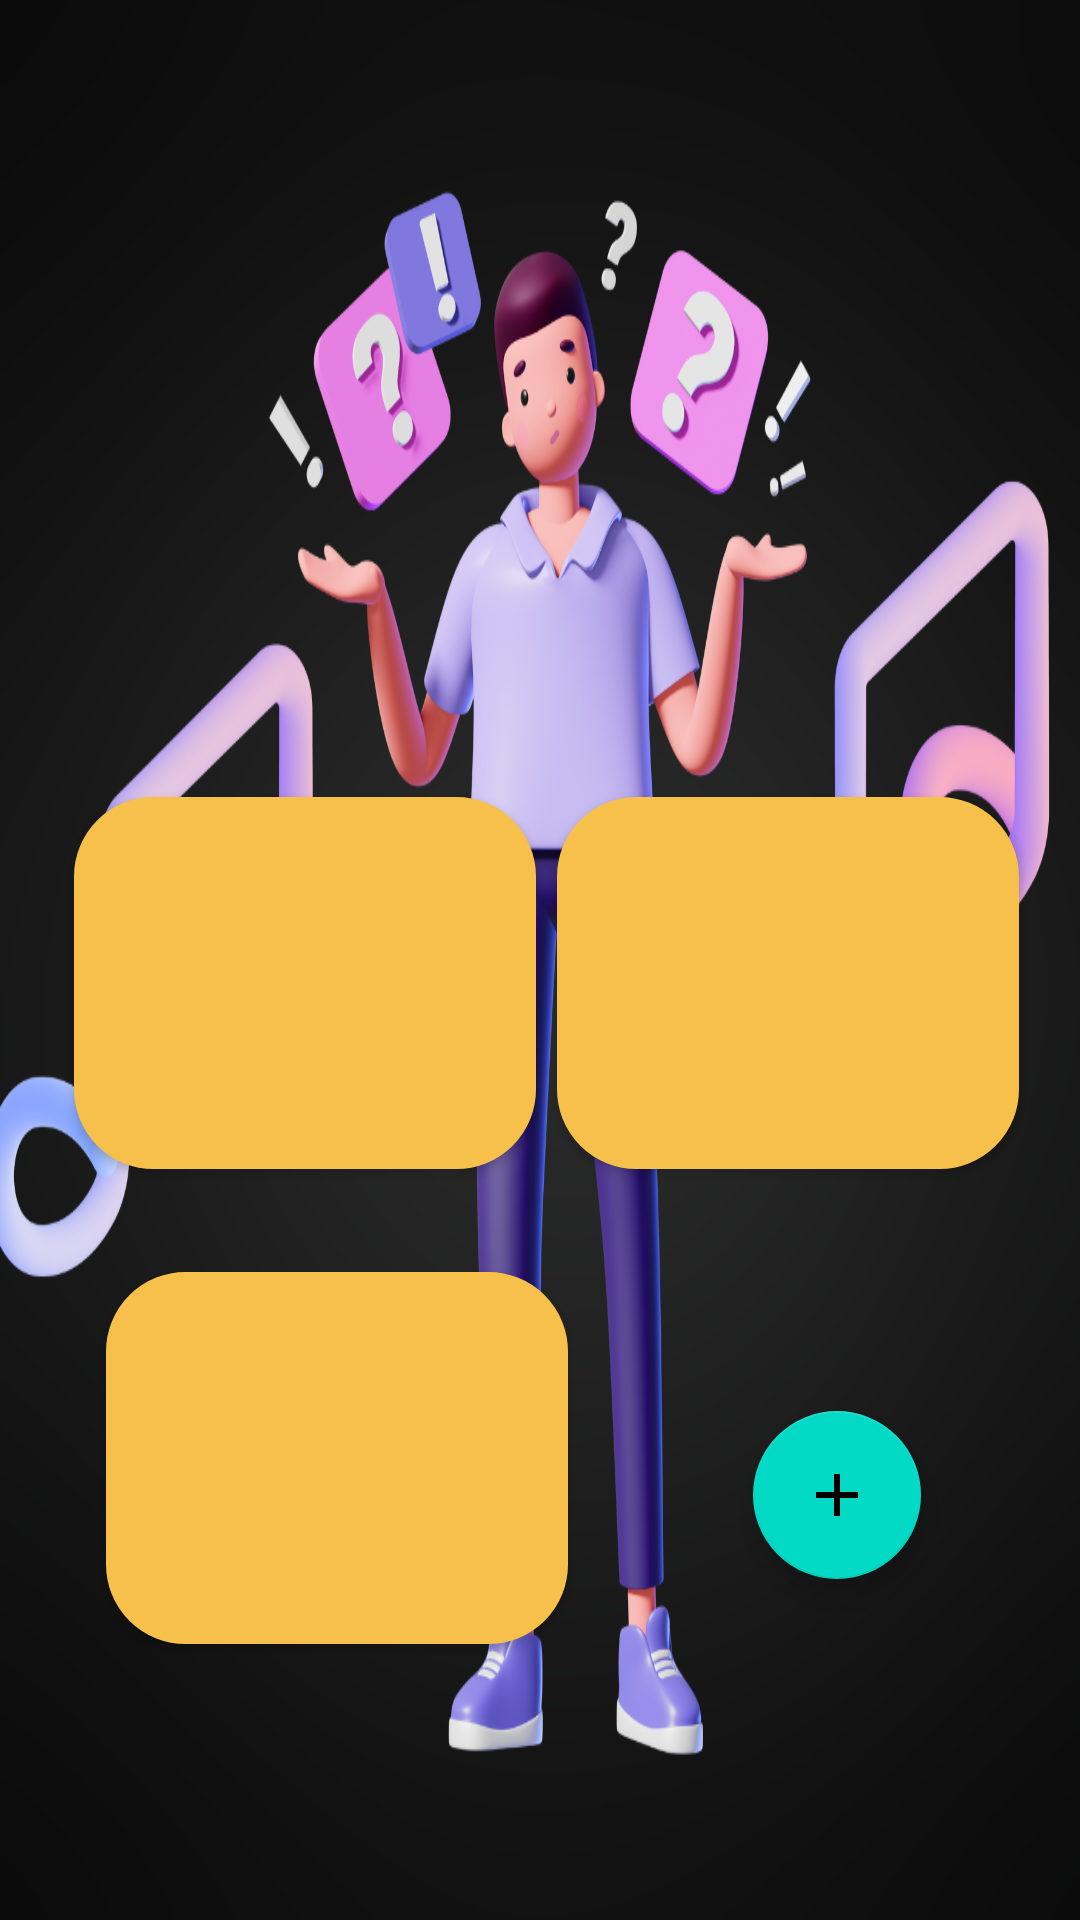

Icon click points for this 1080 × 1920 phone screenshot, format (x,y):
add: (837,1495)
